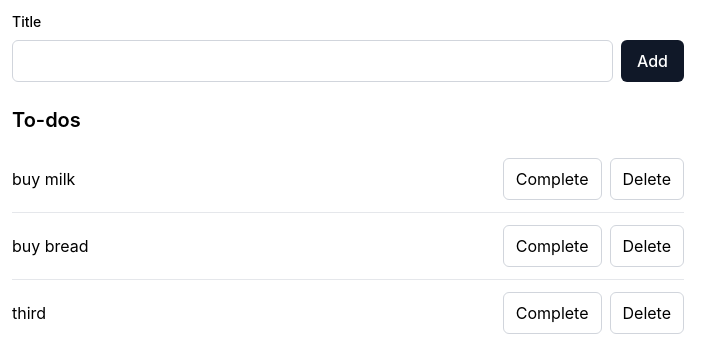
Test case: TodoItem › announces every stale response and clears the notice for a new action
Click the button with aria-label "Delete buy milk" at x=647, y=179, box [610, 158, 684, 200]
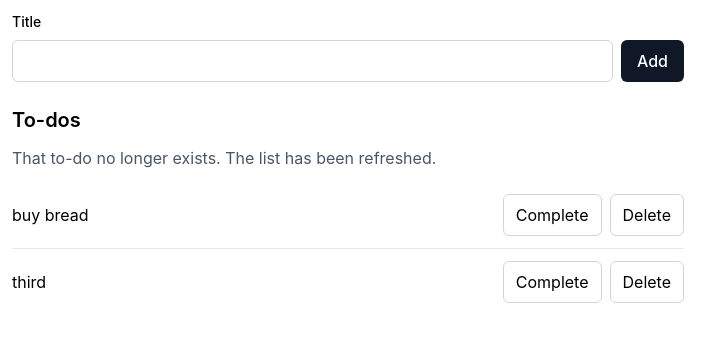
Expected: the text "buy milk" is gone
Click the button with aria-label "Delete buy bread" at x=647, y=215, box [610, 194, 684, 236]
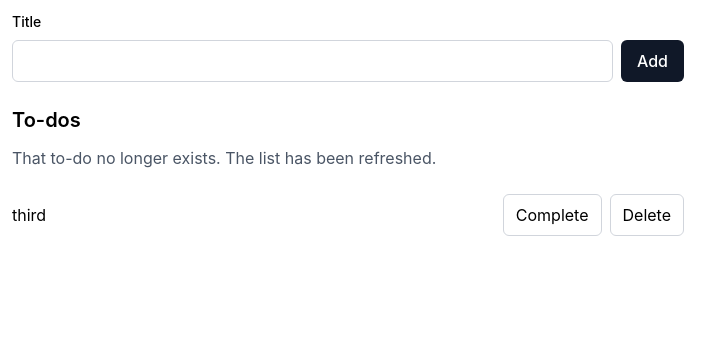
Expected: the message reads "That to-do no longer exists. The list has been refreshed.", [12, 148, 436, 168]
Expected: the text "buy bread" is gone
Click the button with aria-label "Complete third" at x=552, y=215, box [503, 194, 602, 236]
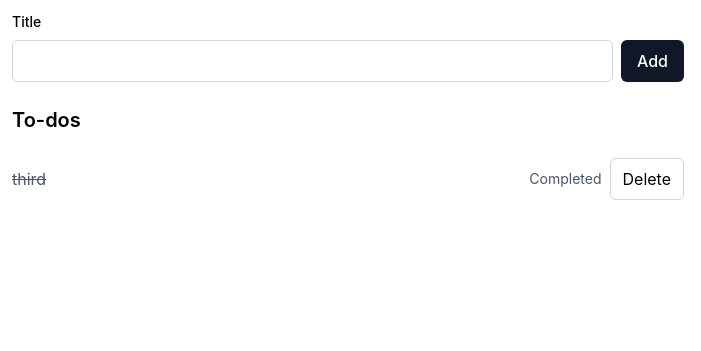
Expected: the text "Completed" is shown, [529, 169, 602, 189]
Expected: the text "That to-do no longer exists. The list has been refreshed." is gone
